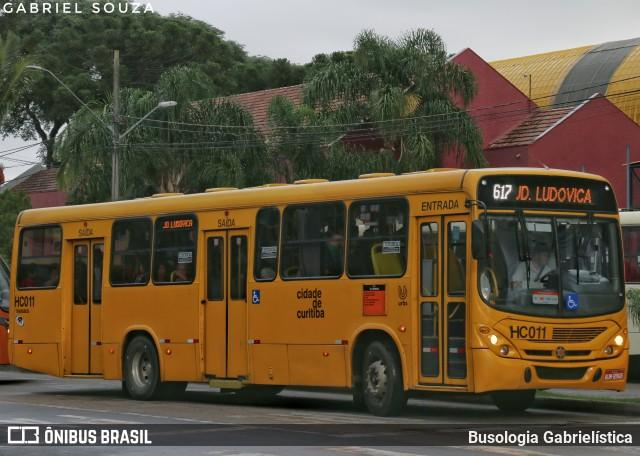JD LUDOVICA: (514, 181, 596, 206)
